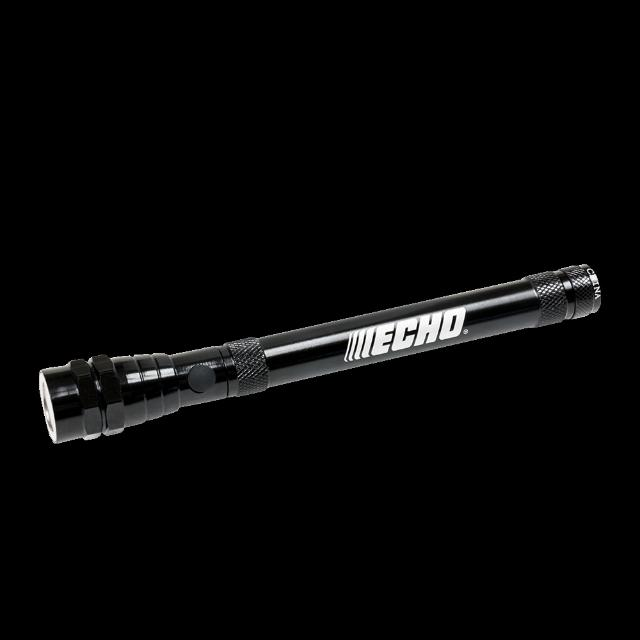Flashlight: (28, 256, 610, 454)
